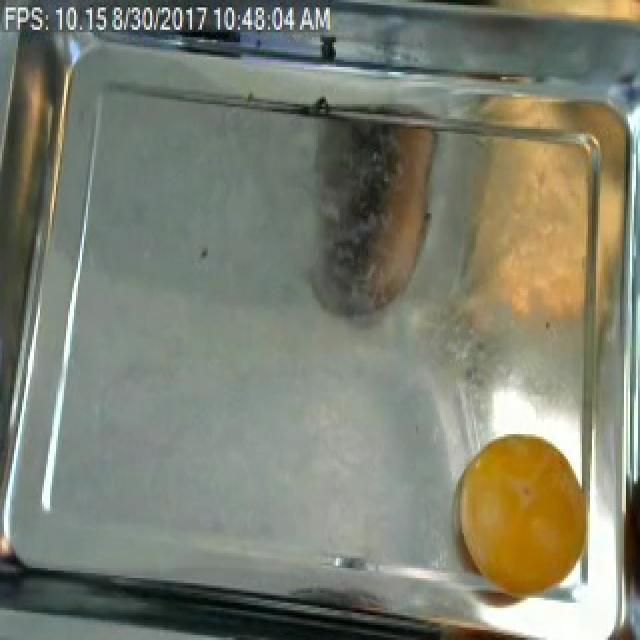Fruit: (454, 116, 606, 466), (450, 427, 594, 595), (468, 0, 640, 32)
